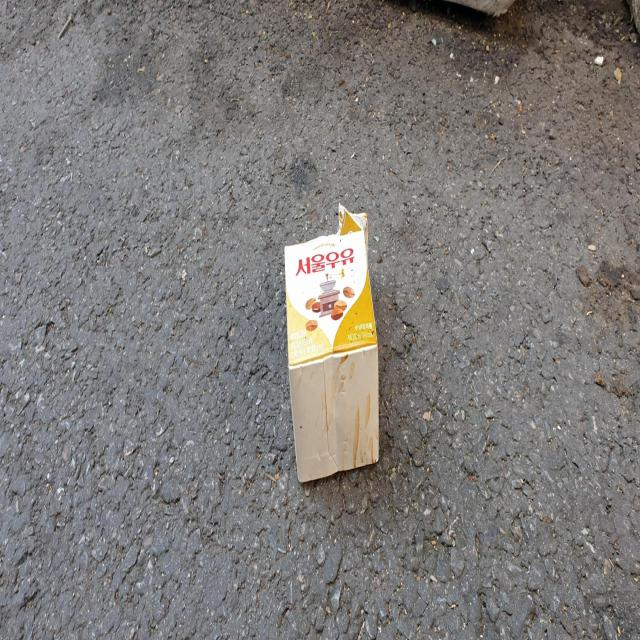paperpack: (285, 204, 379, 481)
